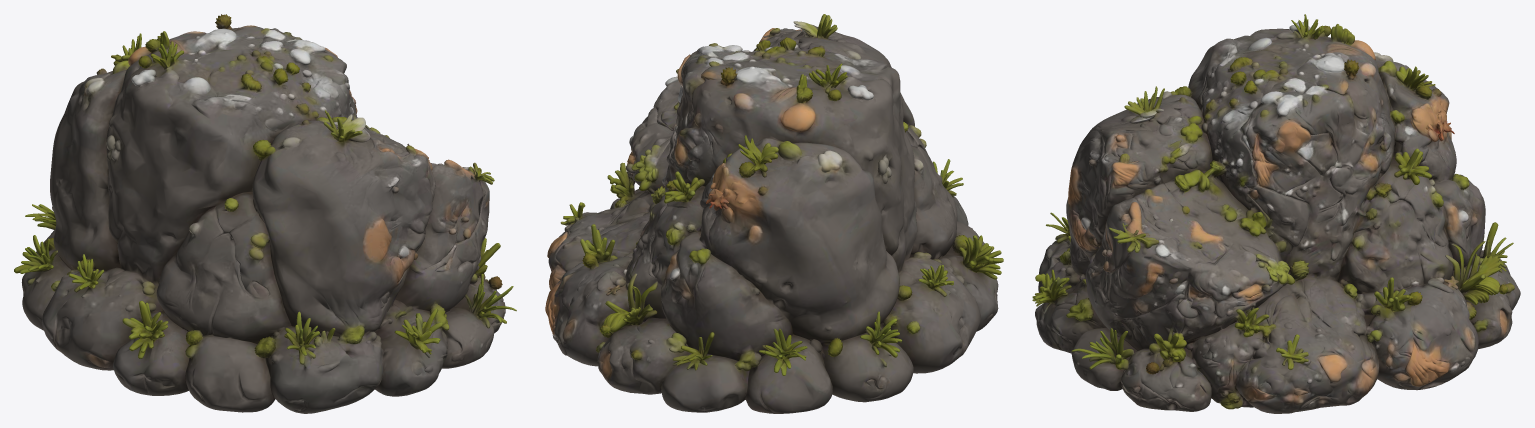
Rendered from resized.glb.
3 views of the same model, side by side, from view 1: azimuth 30°, elevation 25°; view 2: azimuth 150°, elevation 25°; view 3: azimuth 270°, elevation 25° (orthographic). The views are drawn at different scales.
Visible parts, largest first — view 1: tripo_node_9f0efbea-c18a-4e4d-8eb2-7c70626195dc; view 2: tripo_node_9f0efbea-c18a-4e4d-8eb2-7c70626195dc; view 3: tripo_node_9f0efbea-c18a-4e4d-8eb2-7c70626195dc.
Boxes of the visible parts, x1,y1,x2,y2 form: tripo_node_9f0efbea-c18a-4e4d-8eb2-7c70626195dc: [14, 14, 516, 413]; tripo_node_9f0efbea-c18a-4e4d-8eb2-7c70626195dc: [545, 14, 1003, 413]; tripo_node_9f0efbea-c18a-4e4d-8eb2-7c70626195dc: [1032, 14, 1520, 413].
Bounding box in the file's own units: 0.9089 × 0.6144 × 0.98.
Materials: 1 (1 with a texture image).
